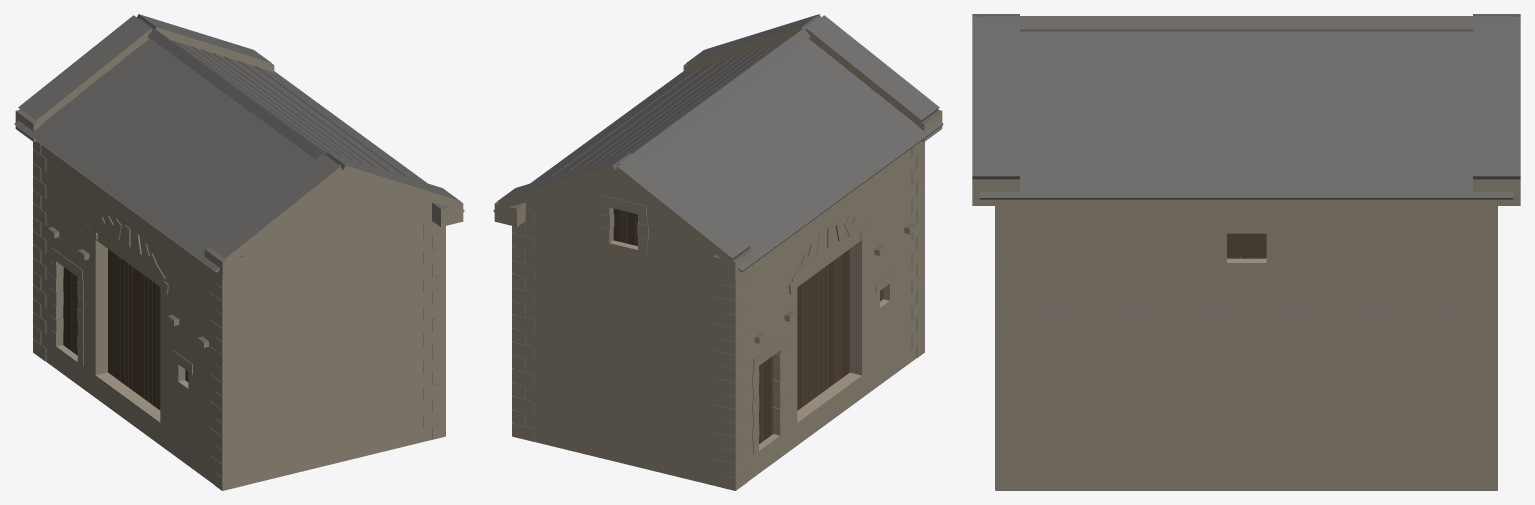
Rendered from context.dales.barn_08.glb.
3 views of the same model, side by side, from view 1: azimuth 30°, elevation 25°; view 2: azimuth 150°, elevation 25°; view 3: azimuth 270°, elevation 25° (orthographic). The views are drawn at different scales.
Parts seen in each view (by area): view 1: main__stone_a98, main__slate_666, main__paint_654, main__paint_554, main__paint_543, main__paint_544; view 2: main__stone_a98, main__slate_666, main__paint_543, main__paint_654, main__paint_554, main__paint_544; view 3: main__stone_a98, main__slate_666, main__paint_654.
Part boxes in pixels (x1=…): main__stone_a98: x1=14, y1=27, x2=464, y2=490; main__slate_666: x1=14, y1=14, x2=463, y2=477; main__paint_654: x1=112, y1=252, x2=188, y2=410; main__paint_554: x1=72, y1=264, x2=148, y2=401; main__paint_543: x1=63, y1=258, x2=156, y2=407; main__paint_544: x1=108, y1=249, x2=140, y2=395; main__stone_a98: x1=493, y1=27, x2=943, y2=490; main__slate_666: x1=494, y1=14, x2=943, y2=477; main__paint_543: x1=613, y1=208, x2=849, y2=444; main__paint_654: x1=635, y1=214, x2=883, y2=407; main__paint_554: x1=620, y1=210, x2=825, y2=443; main__paint_544: x1=769, y1=273, x2=817, y2=436; main__stone_a98: x1=972, y1=29, x2=1520, y2=490; main__slate_666: x1=972, y1=14, x2=1520, y2=473; main__paint_654: x1=1227, y1=233, x2=1266, y2=258.
Bounding box in the file's own units: 5.76 × 6.73 × 8.29.
